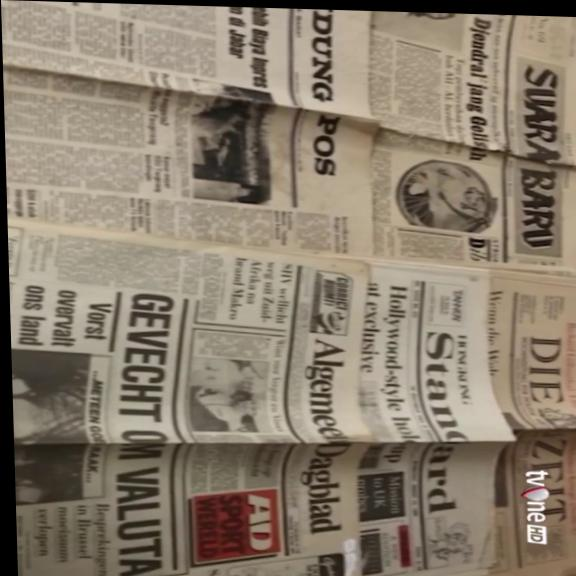Kertas: (342, 17, 576, 576), (8, 219, 381, 451), (3, 65, 386, 260), (21, 431, 391, 576), (1, 0, 386, 120), (358, 11, 576, 166)
